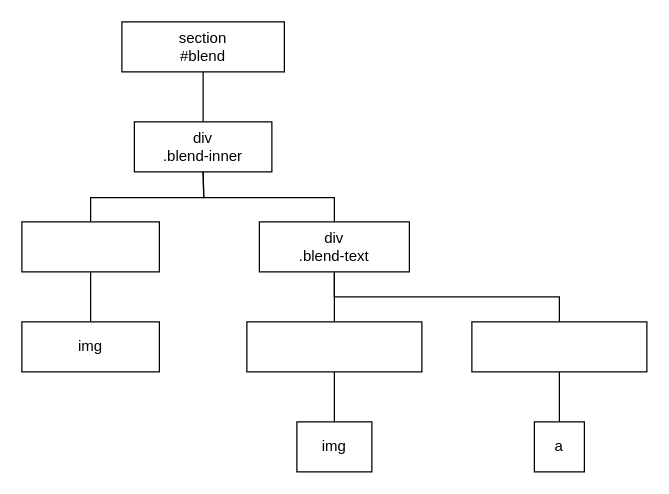
Image size: 669x494. Some labels were removed from this diagram. The box of each missing label's shape, as (x1, y1, x2, y2) in pixels:
div #main-bean-right-detail: (246, 321, 422, 372)
div .blend-img: (21, 221, 159, 272)
div .btn-blend: (471, 321, 647, 372)
